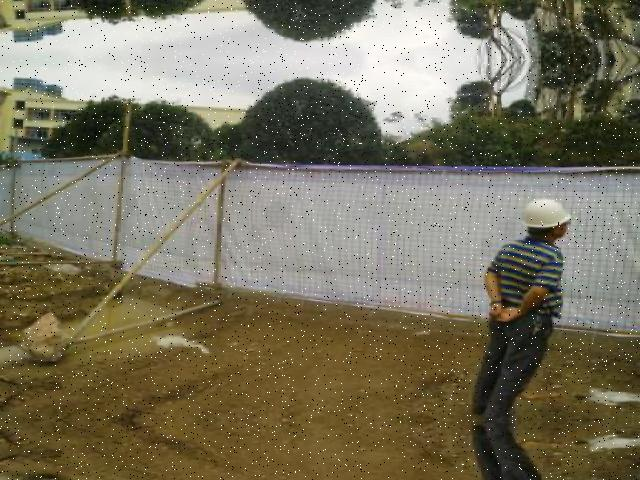Helmet: (517, 193, 574, 242)
